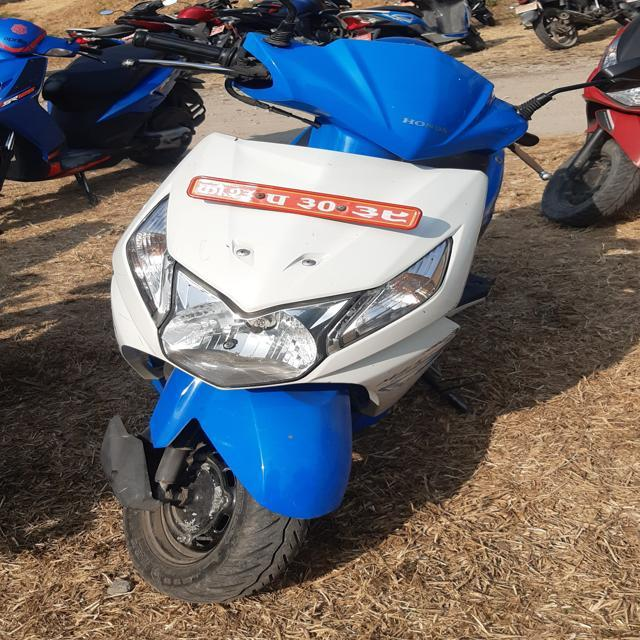license_plate: (134, 161, 470, 256)
